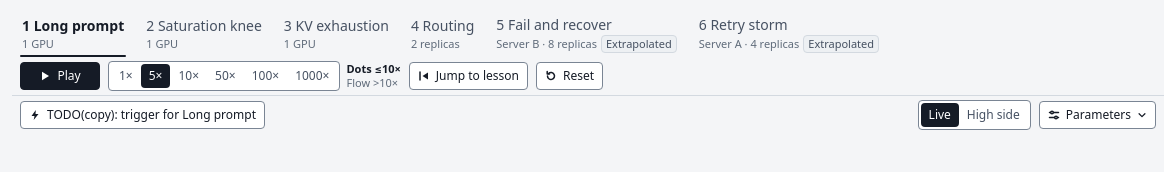
ScenarioTabs › labels only the extrapolated presets, with an orientational tooltip
The image size is (1164, 172).
Hover over the 1st text "Extrapolated" at (639, 44), box top-left (601, 34), bottom-right (677, 52)
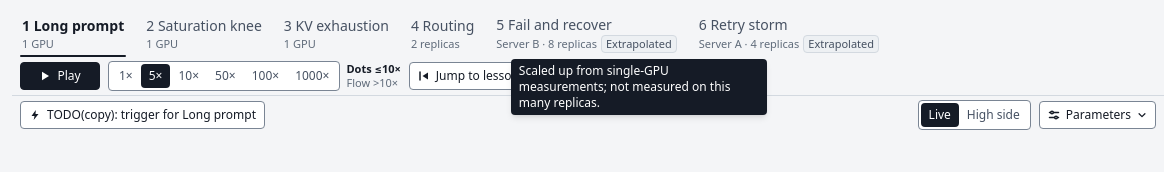
Result: the tooltip reads "Scaled up from single-GPU measurements; not measured on this many replicas." at top-left (519, 62), bottom-right (730, 110)
